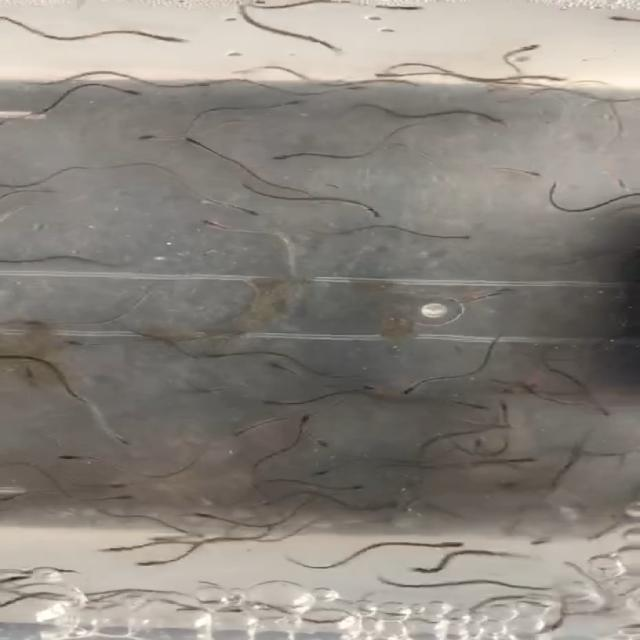active_glass_eel: (100, 541, 147, 557), (412, 560, 452, 578), (138, 554, 174, 571), (134, 130, 172, 146), (309, 38, 345, 54), (270, 361, 306, 376), (382, 1, 423, 14), (152, 32, 190, 46), (357, 202, 390, 218), (502, 453, 546, 465), (533, 71, 572, 84), (174, 78, 216, 90), (193, 216, 224, 232), (397, 380, 428, 396), (506, 41, 539, 56), (114, 430, 141, 448), (60, 449, 103, 460), (177, 136, 206, 152), (102, 491, 144, 502), (478, 116, 516, 128), (278, 98, 312, 111), (307, 464, 338, 478), (431, 539, 470, 550), (476, 289, 511, 300), (268, 152, 300, 164), (94, 480, 132, 490), (505, 168, 547, 177), (190, 510, 224, 521), (372, 573, 398, 587), (544, 179, 568, 194), (362, 380, 392, 392), (496, 398, 518, 414), (234, 425, 259, 439), (322, 86, 365, 94), (225, 68, 268, 76), (374, 69, 412, 78), (262, 398, 300, 407), (316, 436, 342, 449), (64, 338, 96, 348), (466, 399, 494, 410), (110, 85, 140, 95), (339, 482, 369, 492), (607, 15, 640, 24), (614, 174, 629, 193), (299, 409, 320, 422), (237, 207, 267, 216), (452, 232, 476, 242), (599, 402, 614, 418)
